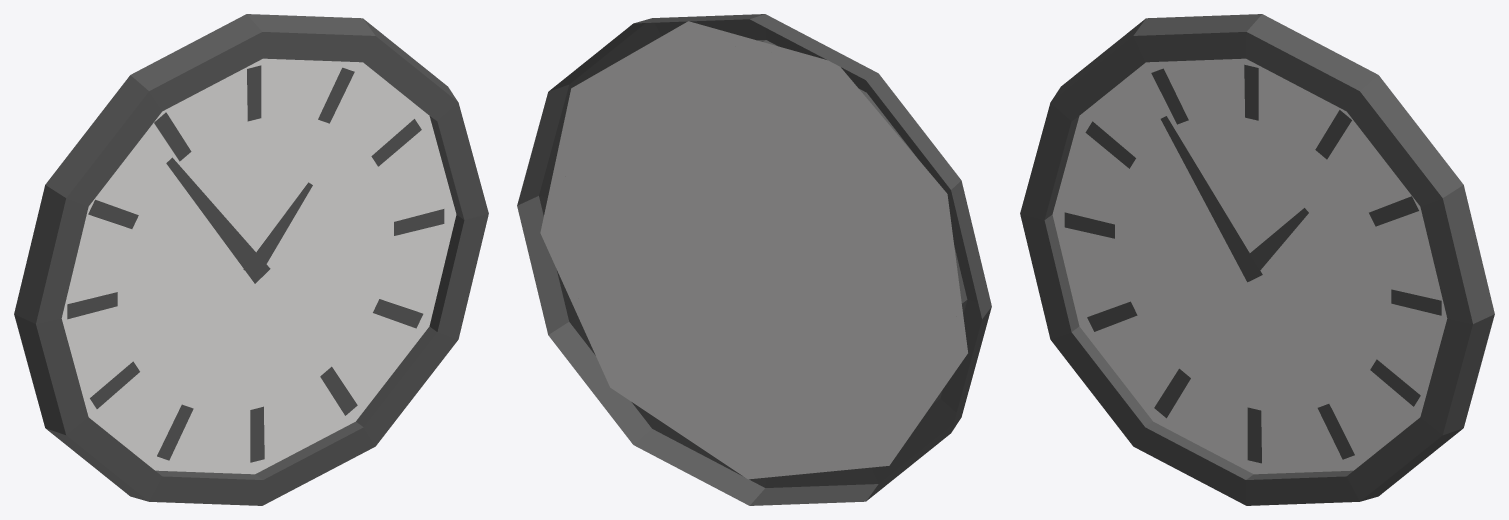
The model's file is Clock_1.fbx.
The picture shows the model from 3 angles, left to right: view 1: azimuth 30°, elevation 25°; view 2: azimuth 150°, elevation 25°; view 3: azimuth 330°, elevation 25°; orthographic projection.
Parts seen in each view (by area): view 1: Clock_1; view 2: Clock_1; view 3: Clock_1.
Boxes of the visible parts, x1=… form: Clock_1: x1=14, y1=14, x2=488, y2=505; Clock_1: x1=517, y1=14, x2=991, y2=505; Clock_1: x1=1020, y1=14, x2=1494, y2=505.
Size of the model in its own units: 58.19 by 3.56 by 58.19.
